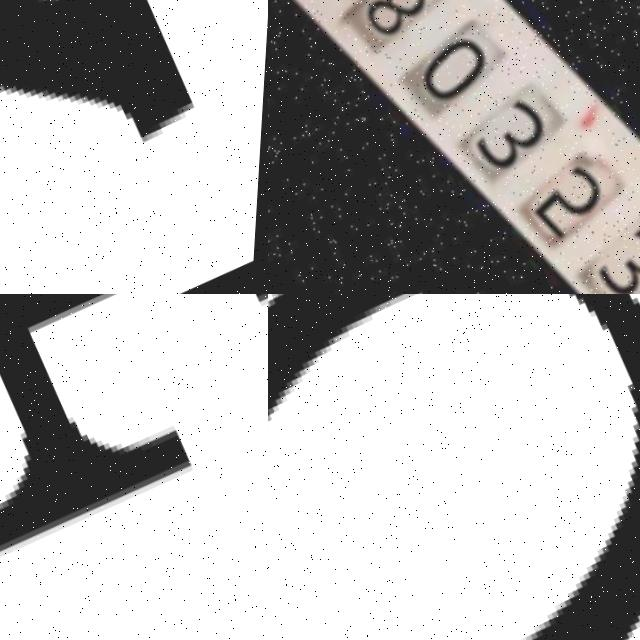0: (379, 0, 527, 132)
3: (439, 63, 583, 197), (560, 190, 640, 294)
5: (497, 126, 640, 260)
8: (324, 0, 460, 63)
F: (0, 294, 268, 640)
K: (0, 0, 253, 294)
O: (268, 294, 640, 640)
